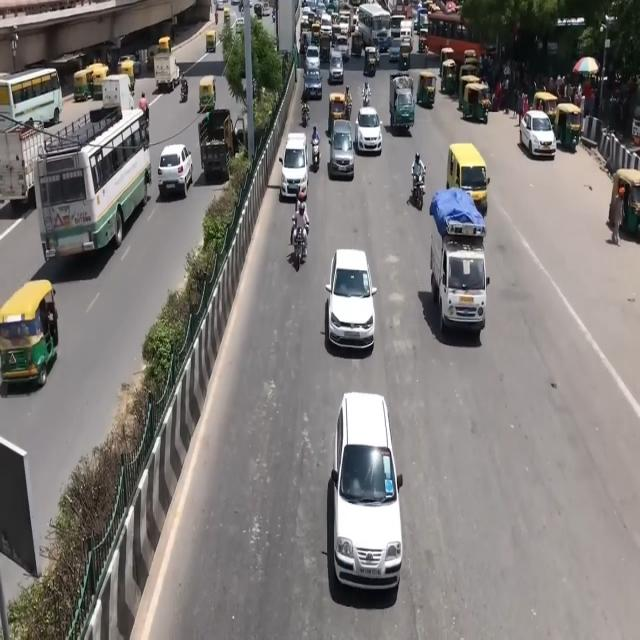auto: (1, 278, 58, 387), (446, 141, 488, 216), (610, 167, 638, 239), (554, 103, 582, 151), (462, 80, 491, 125), (328, 90, 350, 134), (533, 90, 558, 128), (458, 63, 481, 104), (417, 70, 438, 108), (198, 76, 216, 114), (119, 59, 136, 94), (439, 45, 455, 80), (363, 46, 378, 76), (399, 40, 412, 71), (299, 26, 312, 56), (310, 20, 322, 50), (351, 29, 363, 57), (206, 29, 217, 52)
bike-auto: (290, 194, 309, 272), (411, 152, 426, 210), (138, 92, 150, 135), (311, 126, 320, 168), (361, 80, 371, 106), (300, 103, 310, 128), (180, 78, 188, 102)
